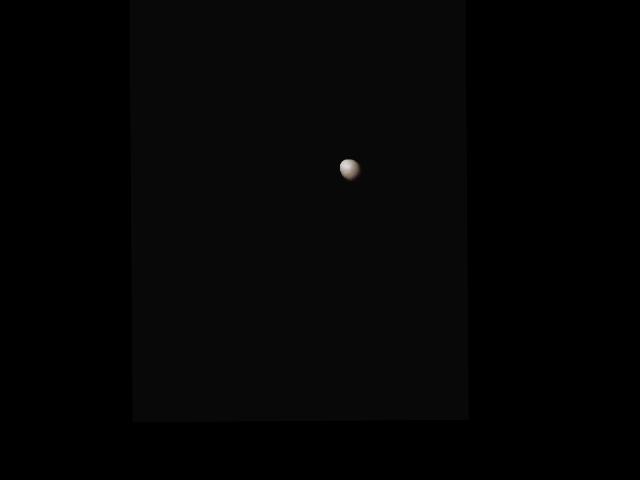egg: (339, 159, 362, 182)
